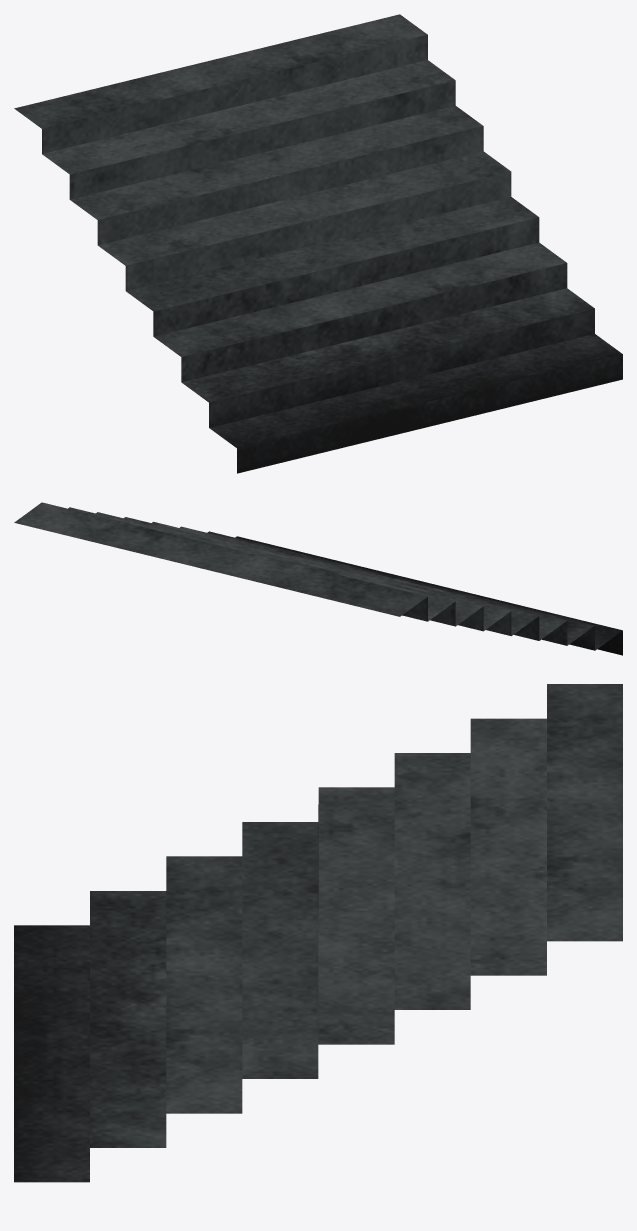
The model's file is SM_EC_ConcreteBlock_Ramp_0.fbx.
3 renders of one model, top to bottom at view 1: azimuth 30°, elevation 25°; view 2: azimuth 150°, elevation 25°; view 3: azimuth 270°, elevation 25°, orthographic. The views are drawn at different scales.
Parts seen in each view (by area): view 1: SM_EC_ConcreteBlock_Ramp_0; view 2: SM_EC_ConcreteBlock_Ramp_0; view 3: SM_EC_ConcreteBlock_Ramp_0.
Part boxes in pixels (left/top/right/bottom): SM_EC_ConcreteBlock_Ramp_0: left=14, top=14, right=622, bottom=473; SM_EC_ConcreteBlock_Ramp_0: left=14, top=502, right=622, bottom=655; SM_EC_ConcreteBlock_Ramp_0: left=14, top=684, right=622, bottom=1182.
Size of the model in its own units: 2 by 2 by 1.
